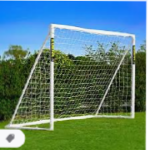goals: (7, 21, 140, 133)
